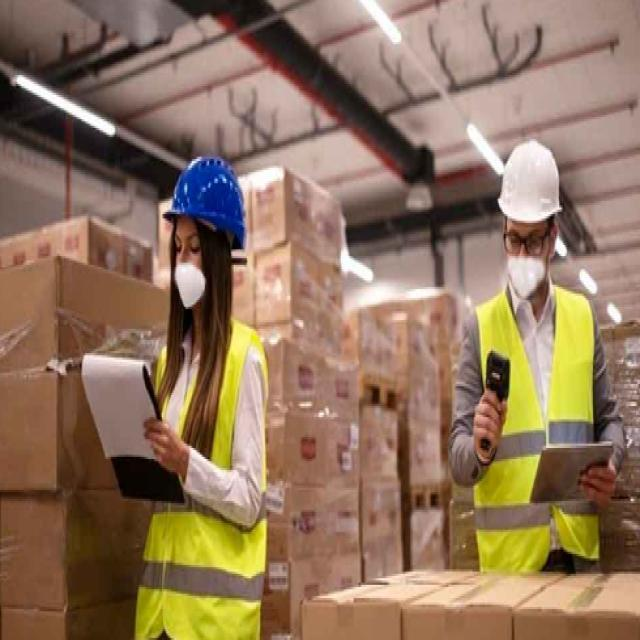hard_hat: (162, 158, 248, 316), (494, 136, 564, 292)
vest: (131, 311, 268, 640), (471, 283, 607, 574)
